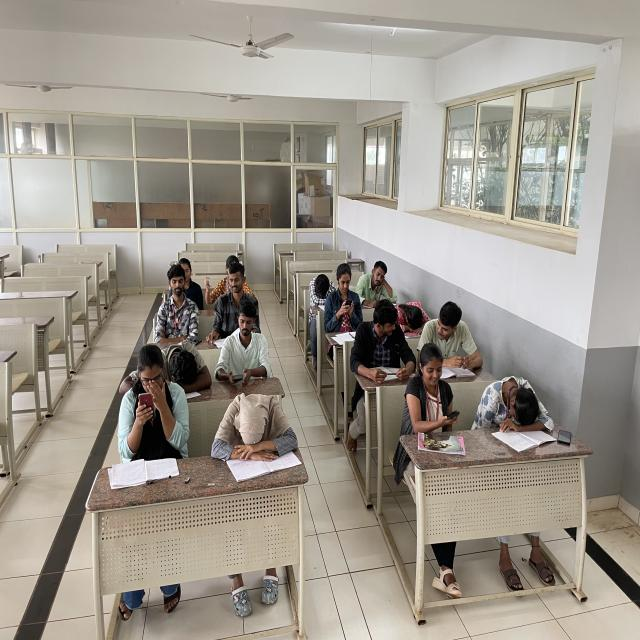Reading: (416, 300, 486, 374), (355, 302, 413, 382)
Sleeping: (205, 386, 304, 471), (116, 336, 212, 398), (475, 368, 548, 444), (302, 269, 339, 324), (388, 295, 431, 338)
Using Phone: (112, 344, 194, 459), (214, 300, 283, 390), (406, 340, 464, 434), (325, 259, 363, 328)
Writing: (355, 258, 401, 307)
